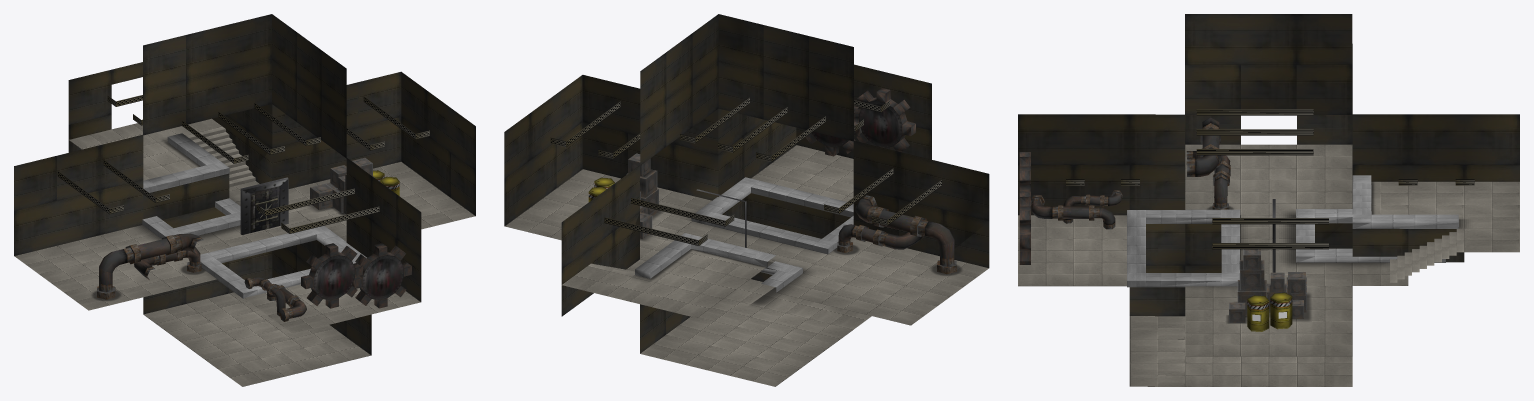
The model's file is room_20.glb.
3 renders of one model, left to right at view 1: azimuth 30°, elevation 25°; view 2: azimuth 150°, elevation 25°; view 3: azimuth 270°, elevation 25°, orthographic. The views are drawn at different scales.
Visible parts, largest first — view 1: wall, floor, floor2, MintGearFloor (×2), Border3, platform_wall, VaultDoorCover, Border1, Border2, stairs, MintGear2 (×2), LargePipe1Elbow2 (+11 smaller); view 2: wall, floor, floor2, Border3, MintGear2 (×2), Border1, LargePipe1Elbow2, Border2, Lights9, Lights10, SmallPipe1Elbow1, Shadow1 (+8 smaller); view 3: wall, floor, floor2, Border3, Border1, platform_wall, Border2, stairs, gagTank1 (×2), MintGear2 (×2), Shadow1, Lights2 (+8 smaller).
Boxes of the visible parts, <box> form: wall: <box>14,14,475,355</box>; floor: <box>14,118,475,333</box>; floor2: <box>143,292,371,386</box>; MintGearFloor (×2): <box>306,246,411,308</box>; Border3: <box>200,225,366,298</box>; platform_wall: <box>143,173,229,219</box>; VaultDoorCover: <box>240,177,288,234</box>; Border1: <box>143,133,229,192</box>; Border2: <box>142,198,240,238</box>; stairs: <box>186,126,255,187</box>; MintGear2 (×2): <box>301,243,411,308</box>; LargePipe1Elbow2: <box>99,247,133,292</box>; wall: <box>504,14,989,353</box>; floor: <box>504,145,988,325</box>; floor2: <box>640,279,871,386</box>; Border3: <box>691,177,853,254</box>; MintGear2 (×2): <box>805,88,915,156</box>; Border1: <box>635,233,775,278</box>; LargePipe1Elbow2: <box>918,219,954,266</box>; Border2: <box>761,261,802,292</box>; Lights9: <box>604,217,707,245</box>; Lights10: <box>631,197,734,226</box>; SmallPipe1Elbow1: <box>879,232,924,249</box>; Shadow1: <box>751,262,811,306</box>; wall: <box>1018,14,1519,316</box>; floor: <box>1018,144,1519,356</box>; floor2: <box>1129,316,1352,386</box>; Border3: <box>1127,209,1240,287</box>; Border1: <box>1352,175,1458,228</box>; platform_wall: <box>1352,229,1464,262</box>; Border2: <box>1296,209,1445,262</box>; stairs: <box>1390,228,1464,282</box>; gagTank1 (×2): <box>1247,292,1292,331</box>; MintGear2 (×2): <box>1019,152,1030,264</box>; Shadow1: <box>1283,211,1389,266</box>; Lights2: <box>1196,109,1313,115</box>.
Bounding box in the file's own units: 135 × 89.75 × 135.
18 materials, 17 textured.
